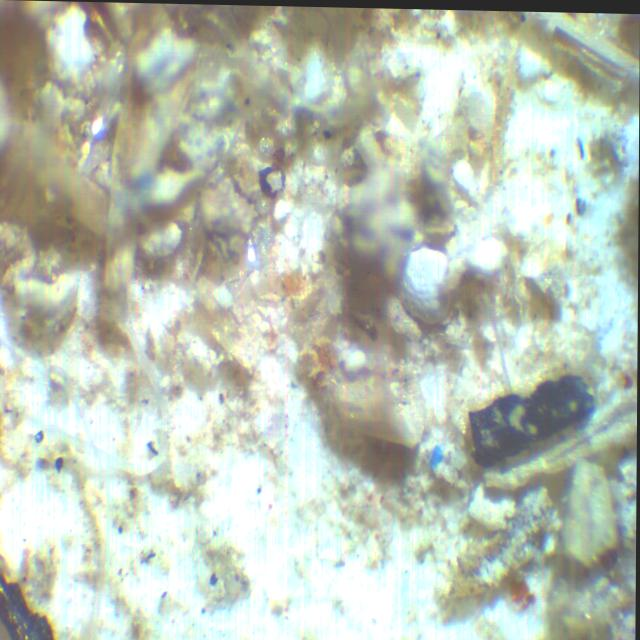microplastic: (430, 443, 445, 476)
